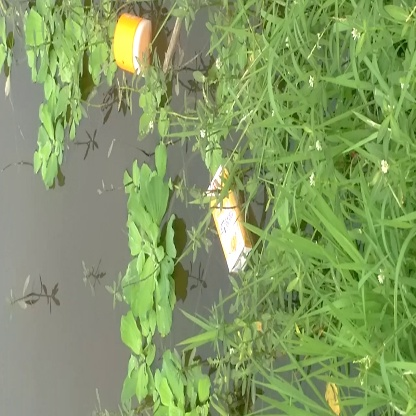bottle: (109, 7, 163, 83)
milk-box: (200, 164, 259, 283)
